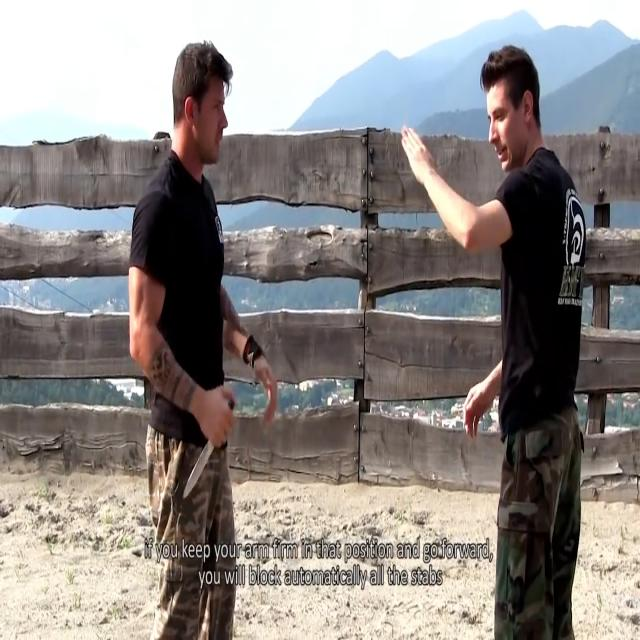knife: (181, 435, 217, 506)
